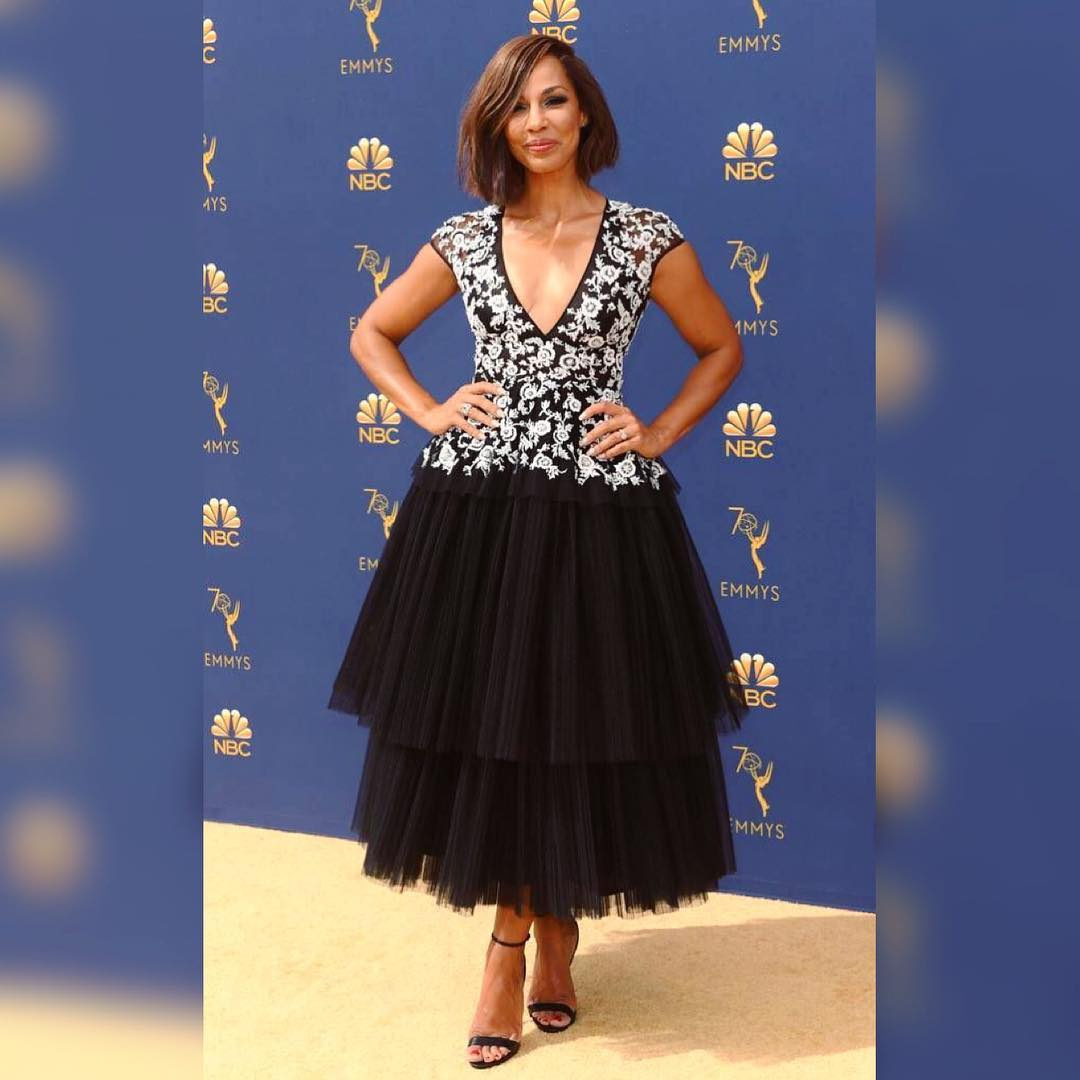hand: (579, 408, 656, 459)
